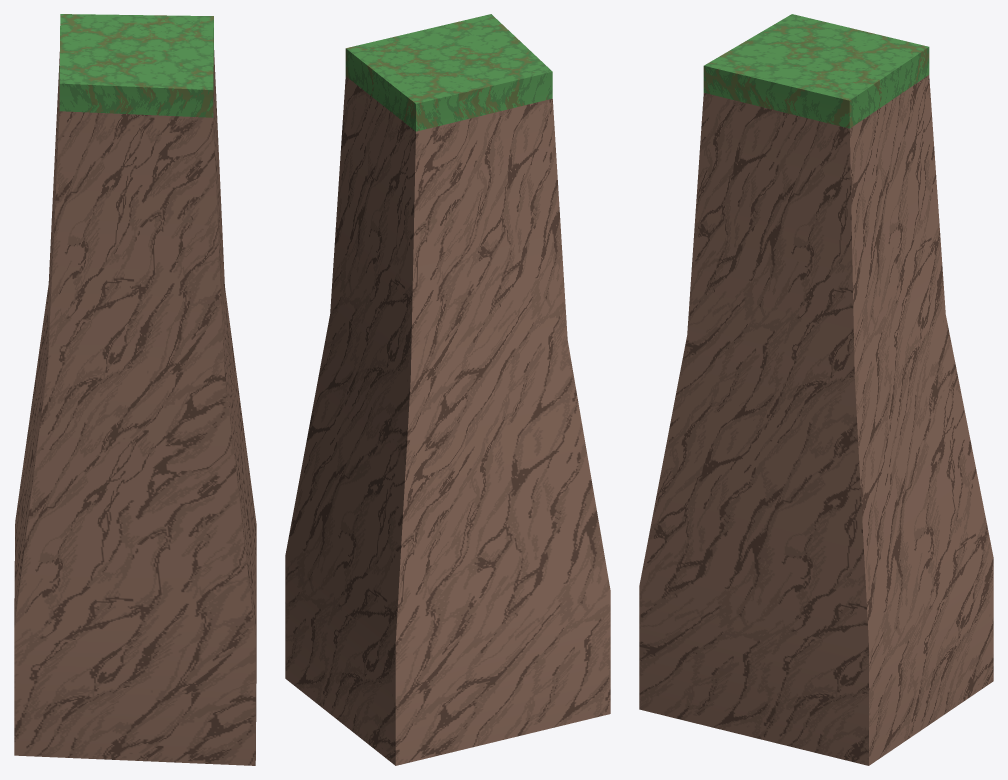
The model's file is Earth_BlockC.fbx.
The picture shows the model from 3 angles, left to right: view 1: azimuth 30°, elevation 25°; view 2: azimuth 150°, elevation 25°; view 3: azimuth 270°, elevation 25°; orthographic projection. The views are drawn at different scales.
Parts seen in each view (by area): view 1: Earth_BlockC; view 2: Earth_BlockC; view 3: Earth_BlockC.
Part boxes in pixels (bbox=[...]): Earth_BlockC: bbox=[14, 14, 256, 765]; Earth_BlockC: bbox=[285, 14, 610, 765]; Earth_BlockC: bbox=[639, 14, 993, 765].
Size of the model in its own units: 777 by 1683 by 844.
